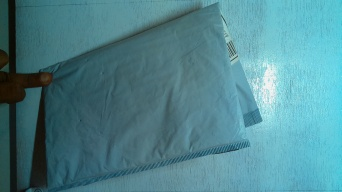a: (38, 6, 266, 176)
